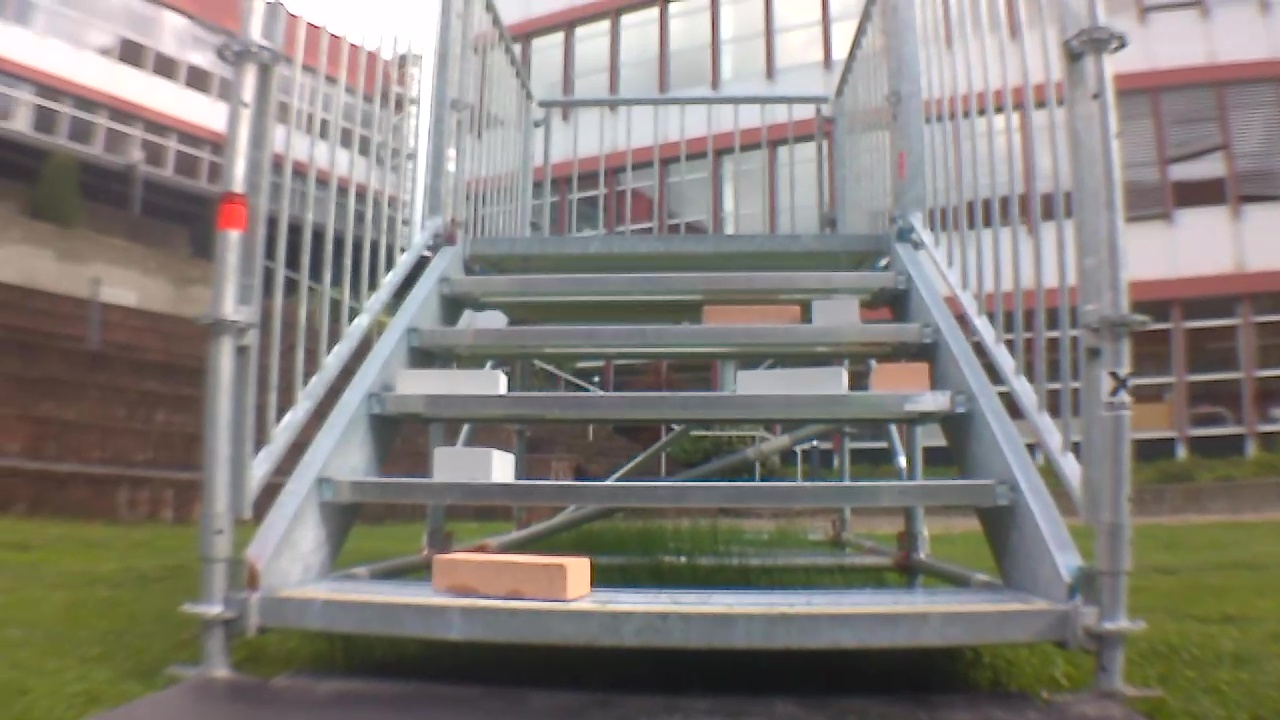brick: (434, 554, 589, 599), (738, 366, 847, 392), (396, 369, 506, 394), (433, 449, 515, 480), (703, 305, 798, 324), (876, 363, 929, 391), (811, 299, 859, 324)
edge: (261, 595, 1064, 647), (320, 476, 1018, 506), (370, 393, 976, 419), (407, 324, 936, 344), (442, 271, 907, 291), (473, 233, 887, 251)
stairs: (197, 2, 1149, 698)
steps: (249, 220, 1071, 655)
